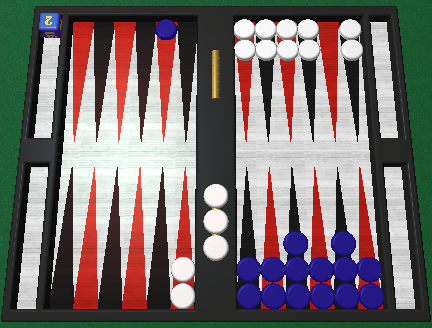checker: (333, 282, 360, 309), (202, 234, 228, 260), (310, 281, 334, 308), (203, 209, 228, 234), (331, 230, 356, 255), (357, 257, 381, 282), (203, 184, 228, 208), (357, 283, 381, 308), (285, 258, 309, 282), (309, 257, 333, 281), (286, 284, 310, 308), (171, 284, 195, 308), (171, 257, 195, 281), (261, 258, 285, 282), (284, 231, 308, 255), (236, 257, 260, 281), (237, 284, 261, 308), (254, 38, 278, 62), (262, 283, 285, 308), (332, 257, 357, 280), (338, 16, 362, 39), (154, 18, 177, 41), (340, 40, 364, 61), (298, 38, 320, 60), (233, 38, 255, 59), (233, 18, 255, 39), (255, 18, 276, 39), (277, 39, 299, 59), (277, 18, 297, 39), (298, 19, 319, 39)
